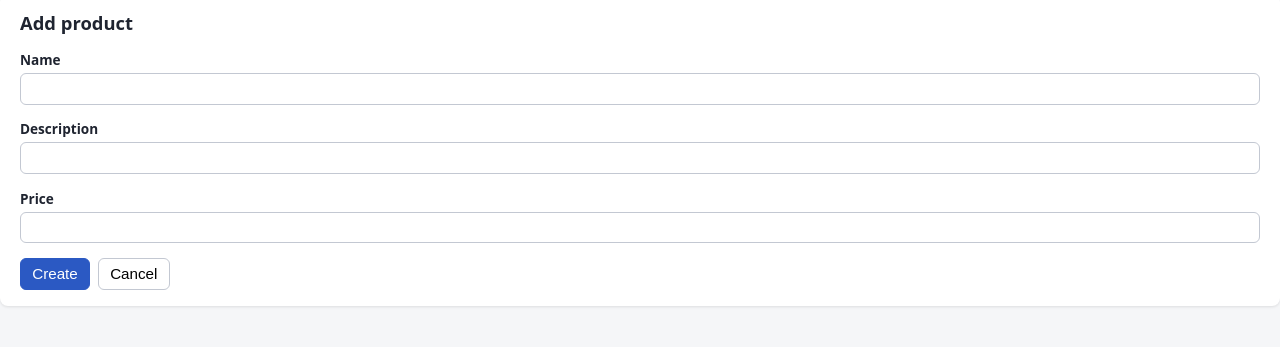
ProductForm › rejects a negative price
In the field labelled "Name": (640, 89) [20, 73, 1260, 105], type "Laptop"
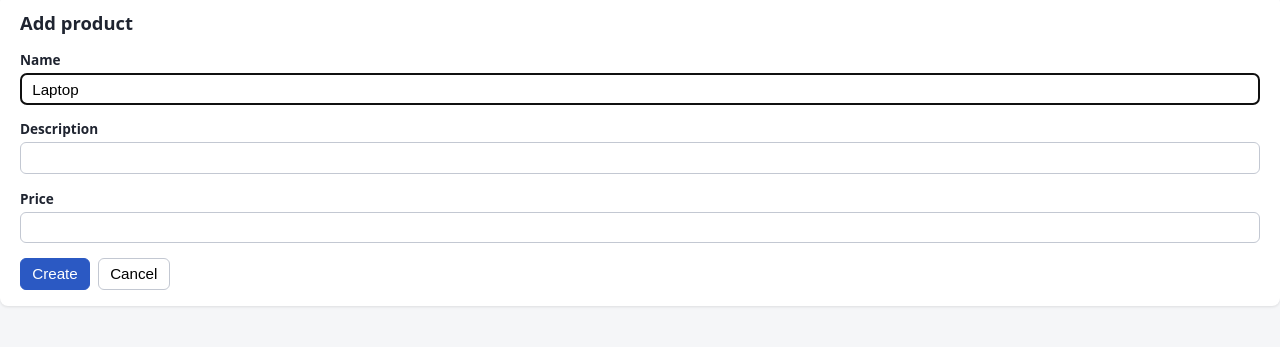
In the number field labelled "Price": (640, 228) [20, 212, 1260, 243], type "-5"
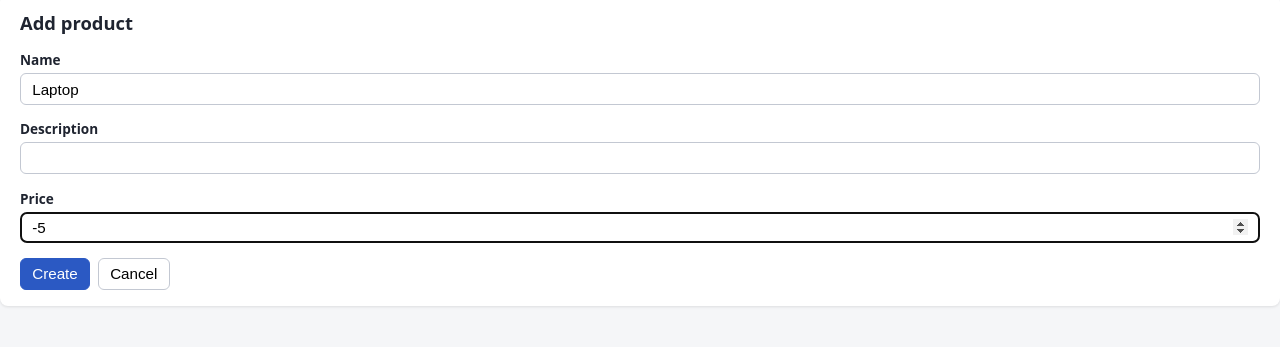
Click the button "Create": click(55, 274) [20, 258, 90, 290]
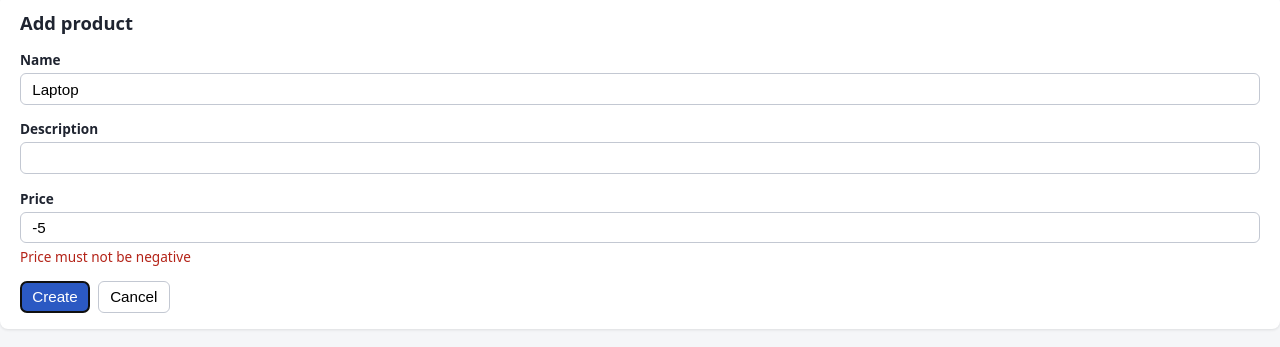
Check: the text "Price must not be negative" is shown, box [20, 247, 191, 266]
